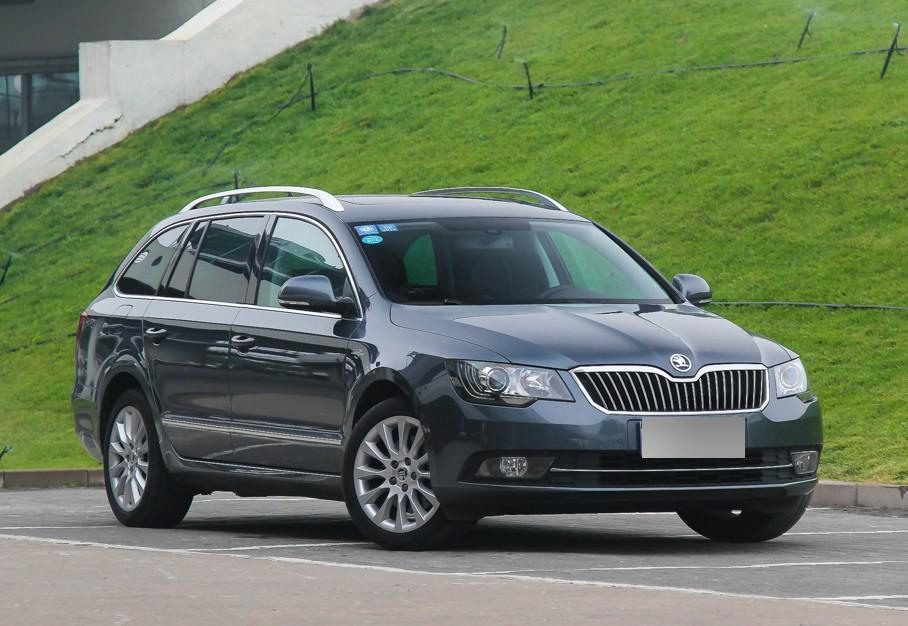Wagon: (72, 185, 823, 548)
